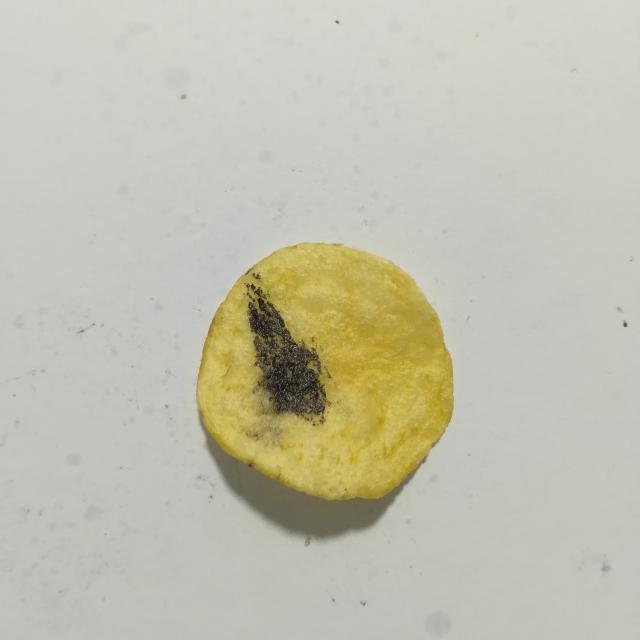chip: (196, 243, 453, 500)
damaged: (245, 283, 331, 422), (319, 415, 326, 424), (312, 421, 316, 426)
semi-damaged: (245, 381, 302, 451), (324, 365, 333, 380), (252, 272, 261, 279), (245, 270, 250, 276), (311, 337, 315, 342), (315, 342, 318, 347)
